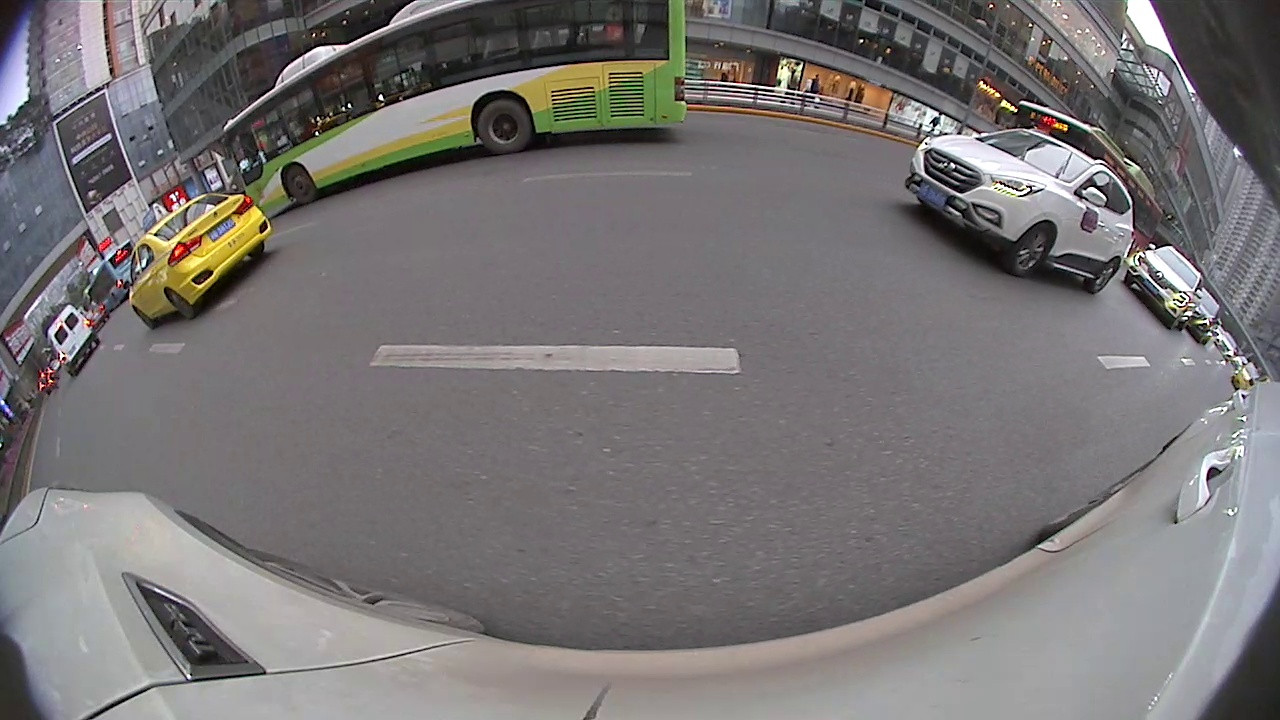bus: (217, 1, 691, 226)
car: (910, 126, 1132, 298), (127, 189, 274, 330), (1123, 249, 1204, 333), (42, 302, 104, 379)
front: (1009, 221, 1054, 277), (282, 164, 316, 206)
rear: (477, 98, 533, 154), (1086, 258, 1118, 296), (167, 287, 196, 321)
